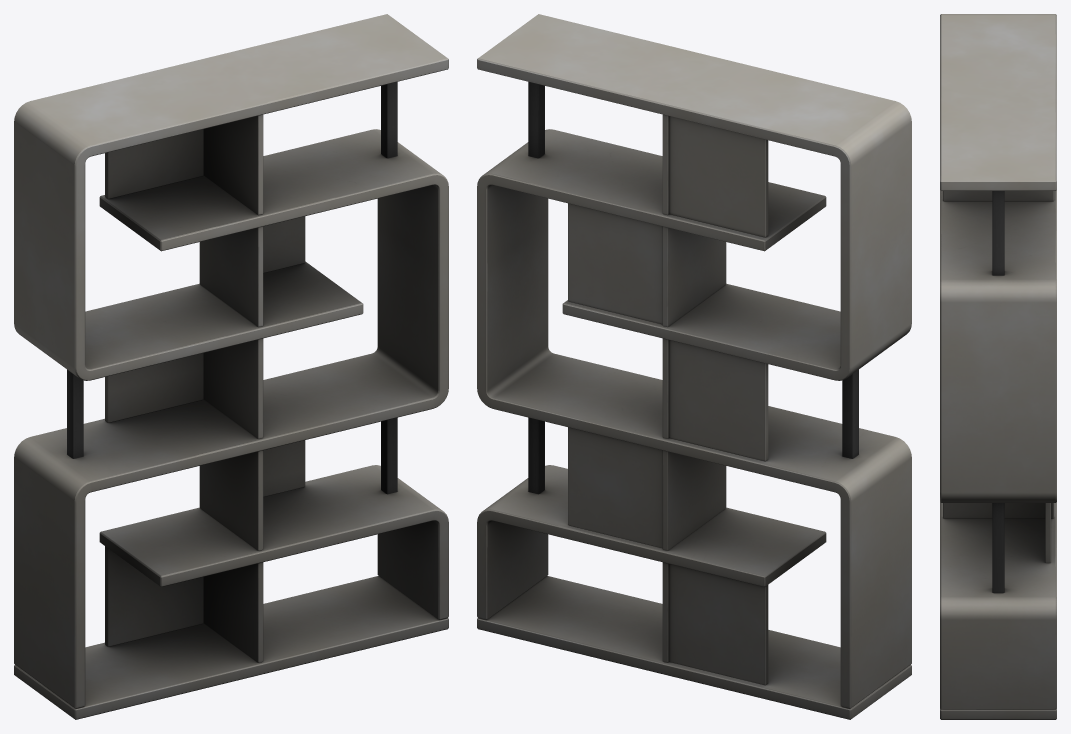
Rendered from bookshelf_modern.glb.
3 views of the same model, side by side, from view 1: azimuth 30°, elevation 25°; view 2: azimuth 150°, elevation 25°; view 3: azimuth 270°, elevation 25° (orthographic). The views are drawn at different scales.
Parts seen in each view (by area): view 1: bookshelf_modern; view 2: bookshelf_modern; view 3: bookshelf_modern.
Boxes of the visible parts, x1,y1,x2,y2 form: bookshelf_modern: (14, 14, 448, 719); bookshelf_modern: (477, 14, 911, 719); bookshelf_modern: (940, 14, 1056, 719).
Size of the model in its own units: 1.4 by 2.04 by 0.4.
Materials: 1 (1 with a texture image).
